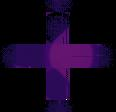earth: (50, 26, 94, 83)
